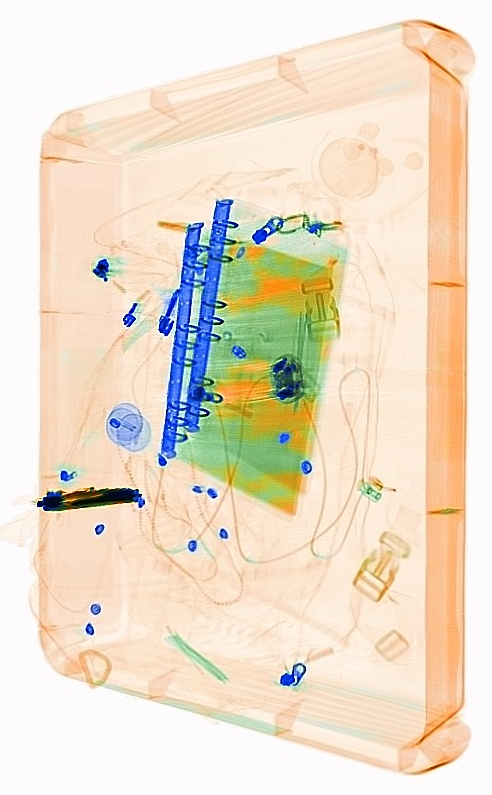FeLighter: (25, 480, 146, 516)
